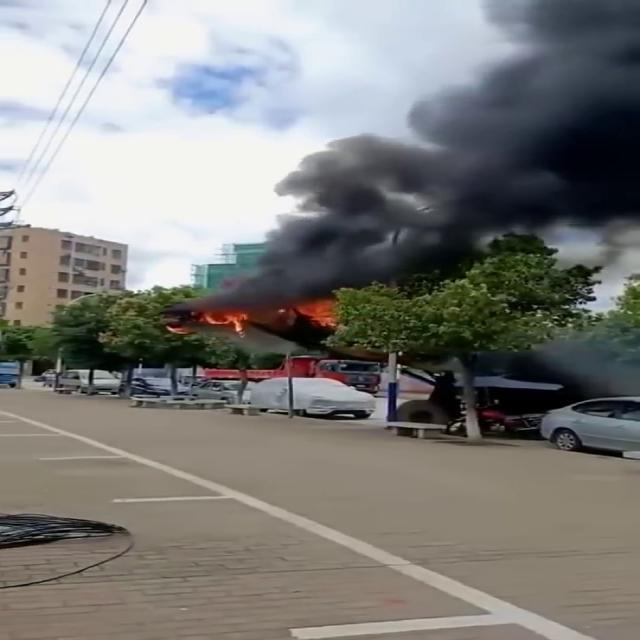Fire: (194, 307, 262, 330)
Smoke: (214, 0, 639, 305)
